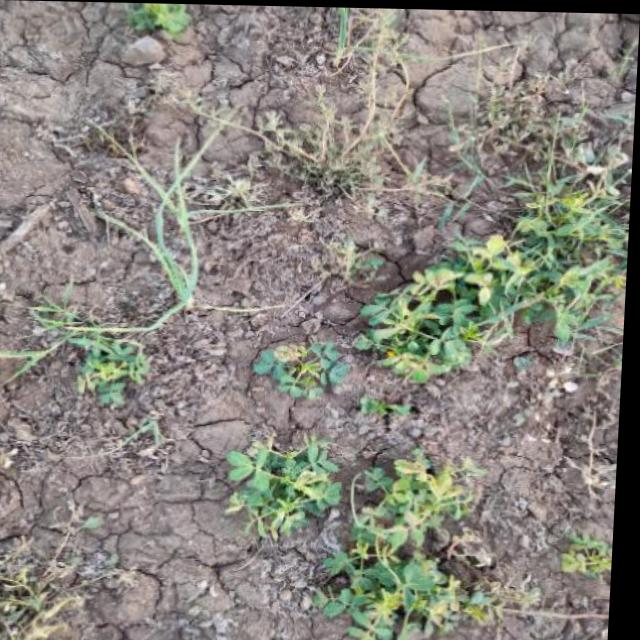weed: (221, 433, 510, 640), (63, 144, 300, 388), (349, 171, 613, 388)
